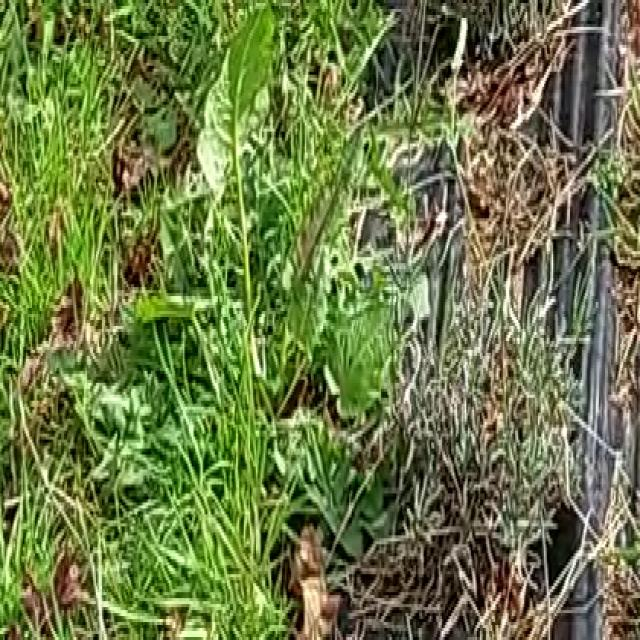organic waste: (97, 3, 372, 446)
